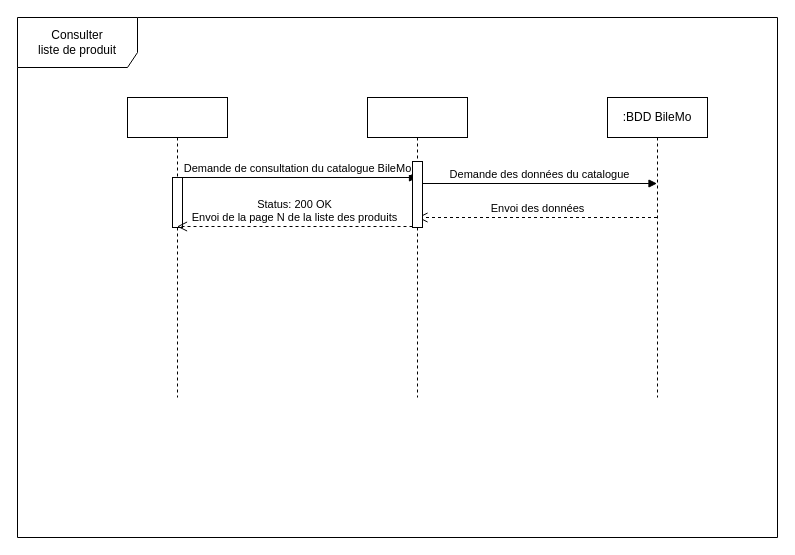
This 795x555 diagram has some shape labels left out. Each missing label, with the centre of its shape:
":API BileMo" belongs at (417,247).
":Customer" belongs at (177,247).
